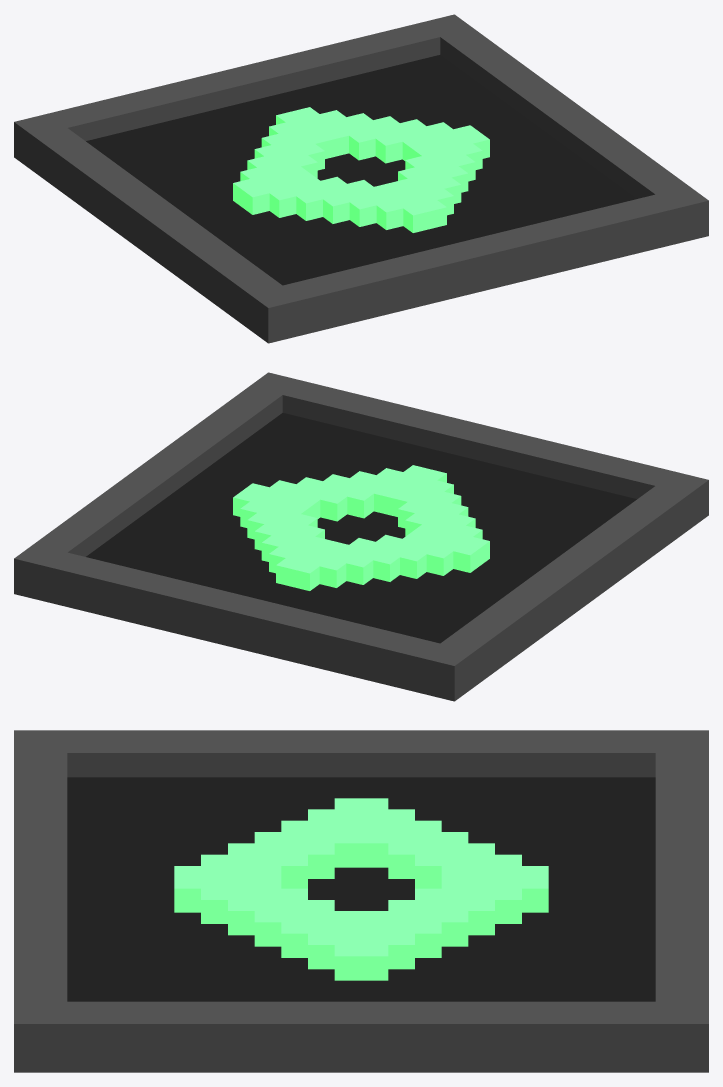
Rendered from trap_DIAMOND_GREEN.glb.
3 views of the same model, one above another, from view 1: azimuth 30°, elevation 25°; view 2: azimuth 150°, elevation 25°; view 3: azimuth 270°, elevation 25° (orthographic). The views are drawn at different scales.
Parts seen in each view (by area): view 1: item_TRAP_DIAMOND_GREEN; view 2: item_TRAP_DIAMOND_GREEN; view 3: item_TRAP_DIAMOND_GREEN.
Part boxes in pixels (x1,y1,x2,y2): item_TRAP_DIAMOND_GREEN: (14,14,708,343); item_TRAP_DIAMOND_GREEN: (14,372,708,701); item_TRAP_DIAMOND_GREEN: (14,730,708,1072).
Bounding box in the file's own units: 0.5909 × 0.0455 × 0.5909.
Materials: 1 (1 with a texture image).
